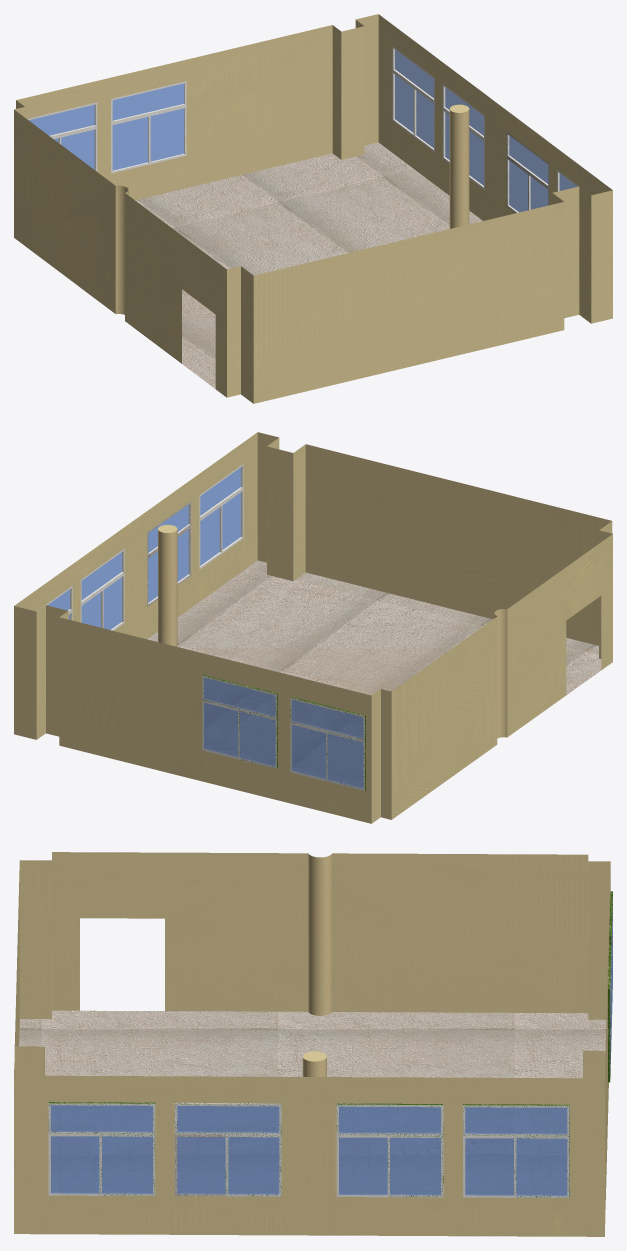
Rendered from AUL013.obj.
3 views of the same model, one above another, from view 1: azimuth 30°, elevation 25°; view 2: azimuth 150°, elevation 25°; view 3: azimuth 270°, elevation 25° (orthographic). The views are drawn at different scales.
Visible parts, largest first — view 1: Mesh37 AUL013 Model, Mesh31 ventana1_1_6 AUL013 Model, Mesh7 ventana1_1_2 AUL013 Model, Mesh1 ventana1_1_1 AUL013 Model, Mesh25 ventana1_1_5 AUL013 Model, Mesh13 ventana1_1_3 AUL013 Model; view 2: Mesh37 AUL013 Model, Mesh25 ventana1_1_5 AUL013 Model, Mesh31 ventana1_1_6 AUL013 Model, Mesh19 ventana1_1_4 AUL013 Model, Mesh13 ventana1_1_3 AUL013 Model, Mesh1 ventana1_1_1 AUL013 Model; view 3: Mesh37 AUL013 Model, Mesh13 ventana1_1_3 AUL013 Model, Mesh1 ventana1_1_1 AUL013 Model, Mesh19 ventana1_1_4 AUL013 Model, Mesh7 ventana1_1_2 AUL013 Model.
Part boxes in pixels (x1=…): Mesh37 AUL013 Model: x1=14, y1=14, x2=612, y2=403; Mesh31 ventana1_1_6 AUL013 Model: x1=111, y1=81, x2=186, y2=173; Mesh7 ventana1_1_2 AUL013 Model: x1=392, y1=46, x2=434, y2=152; Mesh1 ventana1_1_1 AUL013 Model: x1=506, y1=132, x2=549, y2=213; Mesh25 ventana1_1_5 AUL013 Model: x1=27, y1=102, x2=97, y2=171; Mesh13 ventana1_1_3 AUL013 Model: x1=442, y1=84, x2=484, y2=189; Mesh37 AUL013 Model: x1=14, y1=432, x2=612, y2=823; Mesh25 ventana1_1_5 AUL013 Model: x1=290, y1=697, x2=365, y2=790; Mesh31 ventana1_1_6 AUL013 Model: x1=202, y1=675, x2=277, y2=768; Mesh19 ventana1_1_4 AUL013 Model: x1=199, y1=464, x2=243, y2=569; Mesh13 ventana1_1_3 AUL013 Model: x1=80, y1=548, x2=124, y2=630; Mesh1 ventana1_1_1 AUL013 Model: x1=147, y1=501, x2=191, y2=606; Mesh37 AUL013 Model: x1=14, y1=852, x2=610, y2=1236; Mesh13 ventana1_1_3 AUL013 Model: x1=336, y1=1103, x2=443, y2=1197; Mesh1 ventana1_1_1 AUL013 Model: x1=174, y1=1102, x2=281, y2=1196; Mesh19 ventana1_1_4 AUL013 Model: x1=48, y1=1102, x2=155, y2=1195; Mesh7 ventana1_1_2 AUL013 Model: x1=463, y1=1104, x2=569, y2=1197.
Size of the model in its own units: 11.06 by 3.6 by 12.33.
Materials: 9 (2 with a texture image).
